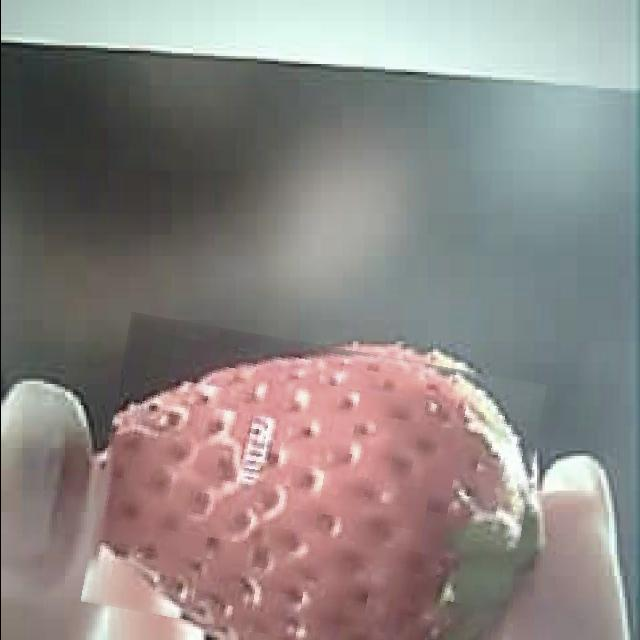strawberry: (91, 329, 536, 640)
